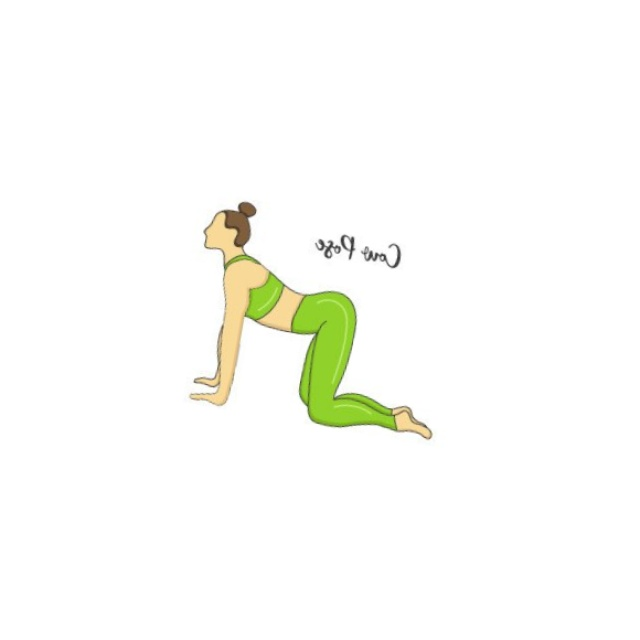Cow_Pose: (189, 203, 433, 440)
